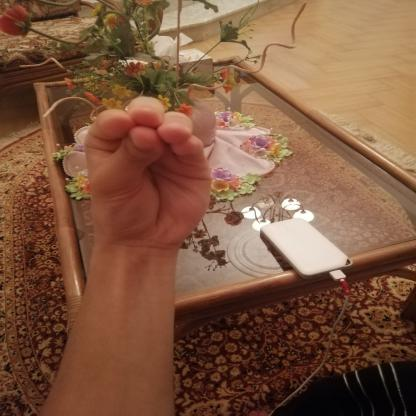HA: (65, 89, 229, 256)
